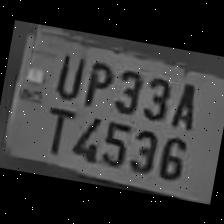3: (108, 60, 146, 116), (124, 122, 160, 176), (136, 68, 173, 120)
4: (66, 107, 102, 162)
5: (95, 114, 133, 168)
6: (151, 131, 189, 183)
A: (164, 74, 203, 133)
P: (76, 53, 116, 109)
T: (36, 98, 76, 158)
U: (47, 44, 87, 102)
